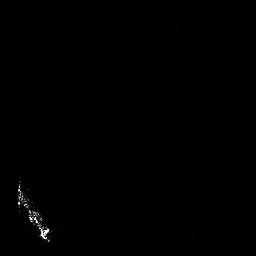ship: (12, 176, 56, 246)
